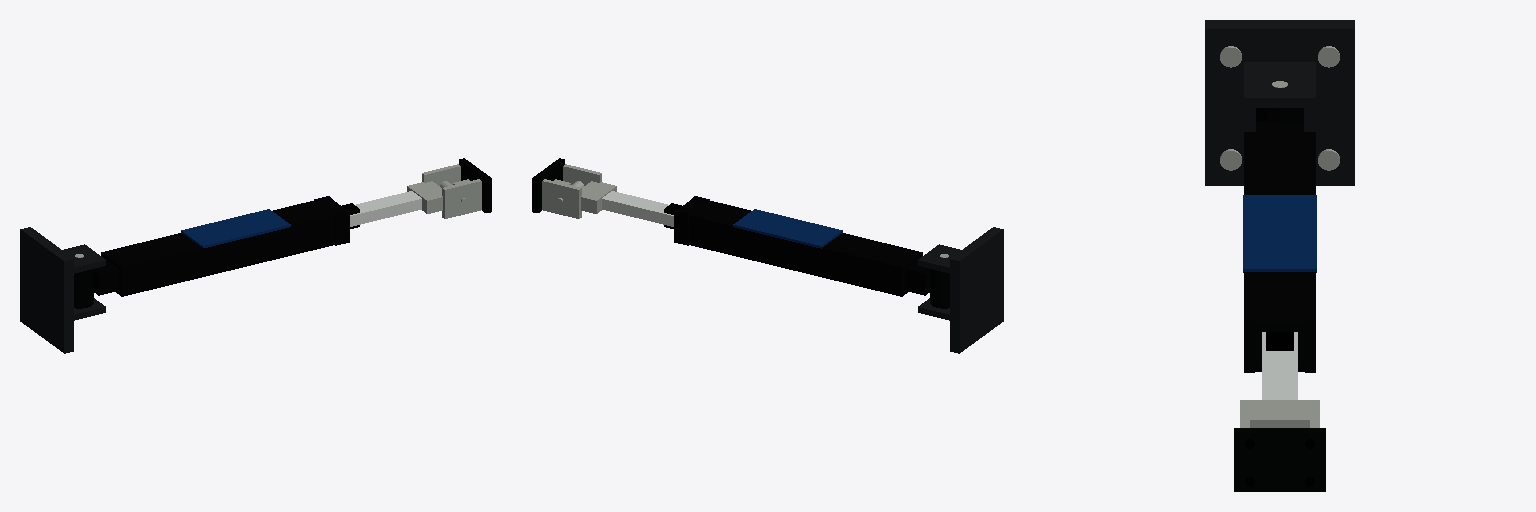
robot.urdf — side_hinged_inspection_boom:
<robot name="side_hinged_inspection_boom">
  <material name="satin_black_powdercoat">
    <color rgba="0.025 0.028 0.03 1" />
    </material>
  <material name="dark_graphite_casting">
    <color rgba="0.1 0.11 0.12 1" />
    </material>
  <material name="brushed_steel">
    <color rgba="0.62 0.64 0.61 1" />
    </material>
  <material name="hard_chrome_slide">
    <color rgba="0.78 0.8 0.78 1" />
    </material>
  <material name="black_rubber_pads">
    <color rgba="0.006 0.006 0.005 1" />
    </material>
  <material name="muted_blue_id_strip">
    <color rgba="0.05 0.18 0.36 1" />
    </material>
  <link name="mount">
    <visual name="wall_plate">
      <origin xyz="-0.08 0 0" rpy="0 0 0" />
      <geometry>
        <box size="0.025 0.19 0.22" />
        </geometry>
      <material name="dark_graphite_casting">
        <color rgba="0.1 0.11 0.12 1" />
        </material>
      </visual>
    <visual name="upper_ear">
      <origin xyz="-0.015 0 0.056" rpy="0 0 0" />
      <geometry>
        <box size="0.11 0.092 0.014" />
        </geometry>
      <material name="dark_graphite_casting">
        <color rgba="0.1 0.11 0.12 1" />
        </material>
      </visual>
    <visual name="lower_ear">
      <origin xyz="-0.015 0 -0.056" rpy="0 0 0" />
      <geometry>
        <box size="0.11 0.092 0.014" />
        </geometry>
      <material name="dark_graphite_casting">
        <color rgba="0.1 0.11 0.12 1" />
        </material>
      </visual>
    <visual name="ear_web">
      <origin xyz="-0.07 0 0" rpy="0 0 0" />
      <geometry>
        <box size="0.035 0.06 0.098" />
        </geometry>
      <material name="dark_graphite_casting">
        <color rgba="0.1 0.11 0.12 1" />
        </material>
      </visual>
    <visual name="pivot_pin">
      <geometry>
        <cylinder radius="0.01" length="0.128" />
        </geometry>
      <material name="brushed_steel">
        <color rgba="0.62 0.64 0.61 1" />
        </material>
      </visual>
    <visual name="bolt_head_0">
      <origin xyz="-0.066 -0.062 -0.072" rpy="0 1.5708 0" />
      <geometry>
        <cylinder radius="0.014" length="0.006" />
        </geometry>
      <material name="brushed_steel">
        <color rgba="0.62 0.64 0.61 1" />
        </material>
      </visual>
    <visual name="bolt_head_1">
      <origin xyz="-0.066 0.062 -0.072" rpy="0 1.5708 0" />
      <geometry>
        <cylinder radius="0.014" length="0.006" />
        </geometry>
      <material name="brushed_steel">
        <color rgba="0.62 0.64 0.61 1" />
        </material>
      </visual>
    <visual name="bolt_head_2">
      <origin xyz="-0.066 -0.062 0.072" rpy="0 1.5708 0" />
      <geometry>
        <cylinder radius="0.014" length="0.006" />
        </geometry>
      <material name="brushed_steel">
        <color rgba="0.62 0.64 0.61 1" />
        </material>
      </visual>
    <visual name="bolt_head_3">
      <origin xyz="-0.066 0.062 0.072" rpy="0 1.5708 0" />
      <geometry>
        <cylinder radius="0.014" length="0.006" />
        </geometry>
      <material name="brushed_steel">
        <color rgba="0.62 0.64 0.61 1" />
        </material>
      </visual>
    <collision name="wall_plate">
      <origin xyz="-0.08 0 0" rpy="0 0 0" />
      <geometry>
        <box size="0.025 0.19 0.22" />
        </geometry>
      </collision>
    <collision name="upper_ear">
      <origin xyz="-0.015 0 0.056" rpy="0 0 0" />
      <geometry>
        <box size="0.11 0.092 0.014" />
        </geometry>
      </collision>
    <collision name="lower_ear">
      <origin xyz="-0.015 0 -0.056" rpy="0 0 0" />
      <geometry>
        <box size="0.11 0.092 0.014" />
        </geometry>
      </collision>
    <collision name="ear_web">
      <origin xyz="-0.07 0 0" rpy="0 0 0" />
      <geometry>
        <box size="0.035 0.06 0.098" />
        </geometry>
      </collision>
    <collision name="pivot_pin">
      <geometry>
        <cylinder radius="0.01" length="0.128" />
        </geometry>
      </collision>
    <collision name="bolt_head_0">
      <origin xyz="-0.066 -0.062 -0.072" rpy="0 1.5708 0" />
      <geometry>
        <cylinder radius="0.014" length="0.006" />
        </geometry>
      </collision>
    <collision name="bolt_head_1">
      <origin xyz="-0.066 0.062 -0.072" rpy="0 1.5708 0" />
      <geometry>
        <cylinder radius="0.014" length="0.006" />
        </geometry>
      </collision>
    <collision name="bolt_head_2">
      <origin xyz="-0.066 -0.062 0.072" rpy="0 1.5708 0" />
      <geometry>
        <cylinder radius="0.014" length="0.006" />
        </geometry>
      </collision>
    <collision name="bolt_head_3">
      <origin xyz="-0.066 0.062 0.072" rpy="0 1.5708 0" />
      <geometry>
        <cylinder radius="0.014" length="0.006" />
        </geometry>
      </collision>
    </link>
  <link name="outer_boom">
    <visual name="root_hub">
      <geometry>
        <cylinder radius="0.031" length="0.096" />
        </geometry>
      <material name="satin_black_powdercoat">
        <color rgba="0.025 0.028 0.03 1" />
        </material>
      </visual>
    <visual name="hub_neck">
      <origin xyz="0.08 0 0" rpy="0 0 0" />
      <geometry>
        <box size="0.1 0.062 0.052" />
        </geometry>
      <material name="satin_black_powdercoat">
        <color rgba="0.025 0.028 0.03 1" />
        </material>
      </visual>
    <visual name="top_sleeve_wall">
      <origin xyz="0.36 0 0.028" rpy="0 0 0" />
      <geometry>
        <box size="0.56 0.09 0.014" />
        </geometry>
      <material name="satin_black_powdercoat">
        <color rgba="0.025 0.028 0.03 1" />
        </material>
      </visual>
    <visual name="bottom_sleeve_wall">
      <origin xyz="0.36 0 -0.028" rpy="0 0 0" />
      <geometry>
        <box size="0.56 0.09 0.014" />
        </geometry>
      <material name="satin_black_powdercoat">
        <color rgba="0.025 0.028 0.03 1" />
        </material>
      </visual>
    <visual name="side_sleeve_wall_0">
      <origin xyz="0.36 0.038 0" rpy="0 0 0" />
      <geometry>
        <box size="0.56 0.014 0.07" />
        </geometry>
      <material name="satin_black_powdercoat">
        <color rgba="0.025 0.028 0.03 1" />
        </material>
      </visual>
    <visual name="side_sleeve_wall_1">
      <origin xyz="0.36 -0.038 0" rpy="0 0 0" />
      <geometry>
        <box size="0.56 0.014 0.07" />
        </geometry>
      <material name="satin_black_powdercoat">
        <color rgba="0.025 0.028 0.03 1" />
        </material>
      </visual>
    <visual name="distal_collar_top">
      <origin xyz="0.63 0 0.028" rpy="0 0 0" />
      <geometry>
        <box size="0.036 0.092 0.014" />
        </geometry>
      <material name="satin_black_powdercoat">
        <color rgba="0.025 0.028 0.03 1" />
        </material>
      </visual>
    <visual name="distal_collar_bottom">
      <origin xyz="0.63 0 -0.028" rpy="0 0 0" />
      <geometry>
        <box size="0.036 0.092 0.014" />
        </geometry>
      <material name="satin_black_powdercoat">
        <color rgba="0.025 0.028 0.03 1" />
        </material>
      </visual>
    <visual name="distal_collar_side_0">
      <origin xyz="0.63 0.039 0" rpy="0 0 0" />
      <geometry>
        <box size="0.036 0.014 0.074" />
        </geometry>
      <material name="satin_black_powdercoat">
        <color rgba="0.025 0.028 0.03 1" />
        </material>
      </visual>
    <visual name="distal_collar_side_1">
      <origin xyz="0.63 -0.039 0" rpy="0 0 0" />
      <geometry>
        <box size="0.036 0.014 0.074" />
        </geometry>
      <material name="satin_black_powdercoat">
        <color rgba="0.025 0.028 0.03 1" />
        </material>
      </visual>
    <visual name="id_strip">
      <origin xyz="0.39 0 0.037" rpy="0 0 0" />
      <geometry>
        <box size="0.22 0.093 0.006" />
        </geometry>
      <material name="muted_blue_id_strip">
        <color rgba="0.05 0.18 0.36 1" />
        </material>
      </visual>
    <collision name="root_hub">
      <geometry>
        <cylinder radius="0.031" length="0.096" />
        </geometry>
      </collision>
    <collision name="hub_neck">
      <origin xyz="0.08 0 0" rpy="0 0 0" />
      <geometry>
        <box size="0.1 0.062 0.052" />
        </geometry>
      </collision>
    <collision name="top_sleeve_wall">
      <origin xyz="0.36 0 0.028" rpy="0 0 0" />
      <geometry>
        <box size="0.56 0.09 0.014" />
        </geometry>
      </collision>
    <collision name="bottom_sleeve_wall">
      <origin xyz="0.36 0 -0.028" rpy="0 0 0" />
      <geometry>
        <box size="0.56 0.09 0.014" />
        </geometry>
      </collision>
    <collision name="side_sleeve_wall_0">
      <origin xyz="0.36 0.038 0" rpy="0 0 0" />
      <geometry>
        <box size="0.56 0.014 0.07" />
        </geometry>
      </collision>
    <collision name="side_sleeve_wall_1">
      <origin xyz="0.36 -0.038 0" rpy="0 0 0" />
      <geometry>
        <box size="0.56 0.014 0.07" />
        </geometry>
      </collision>
    <collision name="distal_collar_top">
      <origin xyz="0.63 0 0.028" rpy="0 0 0" />
      <geometry>
        <box size="0.036 0.092 0.014" />
        </geometry>
      </collision>
    <collision name="distal_collar_bottom">
      <origin xyz="0.63 0 -0.028" rpy="0 0 0" />
      <geometry>
        <box size="0.036 0.092 0.014" />
        </geometry>
      </collision>
    <collision name="distal_collar_side_0">
      <origin xyz="0.63 0.039 0" rpy="0 0 0" />
      <geometry>
        <box size="0.036 0.014 0.074" />
        </geometry>
      </collision>
    <collision name="distal_collar_side_1">
      <origin xyz="0.63 -0.039 0" rpy="0 0 0" />
      <geometry>
        <box size="0.036 0.014 0.074" />
        </geometry>
      </collision>
    <collision name="id_strip">
      <origin xyz="0.39 0 0.037" rpy="0 0 0" />
      <geometry>
        <box size="0.22 0.093 0.006" />
        </geometry>
      </collision>
    </link>
  <link name="center_stage">
    <visual name="inner_member">
      <origin xyz="-0.07 0 0" rpy="0 0 0" />
      <geometry>
        <box size="0.7 0.046 0.026" />
        </geometry>
      <material name="hard_chrome_slide">
        <color rgba="0.78 0.8 0.78 1" />
        </material>
      </visual>
    <visual name="upper_glide">
      <origin xyz="-0.13 0 0.017" rpy="0 0 0" />
      <geometry>
        <box size="0.42 0.036 0.008" />
        </geometry>
      <material name="black_rubber_pads">
        <color rgba="0.006 0.006 0.005 1" />
        </material>
      </visual>
    <visual name="lower_glide">
      <origin xyz="-0.13 0 -0.017" rpy="0 0 0" />
      <geometry>
        <box size="0.42 0.036 0.008" />
        </geometry>
      <material name="black_rubber_pads">
        <color rgba="0.006 0.006 0.005 1" />
        </material>
      </visual>
    <visual name="fork_bridge">
      <origin xyz="0.262 0 0" rpy="0 0 0" />
      <geometry>
        <box size="0.06 0.088 0.032" />
        </geometry>
      <material name="brushed_steel">
        <color rgba="0.62 0.64 0.61 1" />
        </material>
      </visual>
    <visual name="fork_cheek_0">
      <origin xyz="0.318 0.044 0" rpy="0 0 0" />
      <geometry>
        <box size="0.092 0.012 0.07" />
        </geometry>
      <material name="brushed_steel">
        <color rgba="0.62 0.64 0.61 1" />
        </material>
      </visual>
    <visual name="fork_cheek_1">
      <origin xyz="0.318 -0.044 0" rpy="0 0 0" />
      <geometry>
        <box size="0.092 0.012 0.07" />
        </geometry>
      <material name="brushed_steel">
        <color rgba="0.62 0.64 0.61 1" />
        </material>
      </visual>
    <visual name="head_pin">
      <origin xyz="0.318 0 0" rpy="1.5708 0 0" />
      <geometry>
        <cylinder radius="0.006" length="0.112" />
        </geometry>
      <material name="brushed_steel">
        <color rgba="0.62 0.64 0.61 1" />
        </material>
      </visual>
    <collision name="inner_member">
      <origin xyz="-0.07 0 0" rpy="0 0 0" />
      <geometry>
        <box size="0.7 0.046 0.026" />
        </geometry>
      </collision>
    <collision name="upper_glide">
      <origin xyz="-0.13 0 0.017" rpy="0 0 0" />
      <geometry>
        <box size="0.42 0.036 0.008" />
        </geometry>
      </collision>
    <collision name="lower_glide">
      <origin xyz="-0.13 0 -0.017" rpy="0 0 0" />
      <geometry>
        <box size="0.42 0.036 0.008" />
        </geometry>
      </collision>
    <collision name="fork_bridge">
      <origin xyz="0.262 0 0" rpy="0 0 0" />
      <geometry>
        <box size="0.06 0.088 0.032" />
        </geometry>
      </collision>
    <collision name="fork_cheek_0">
      <origin xyz="0.318 0.044 0" rpy="0 0 0" />
      <geometry>
        <box size="0.092 0.012 0.07" />
        </geometry>
      </collision>
    <collision name="fork_cheek_1">
      <origin xyz="0.318 -0.044 0" rpy="0 0 0" />
      <geometry>
        <box size="0.092 0.012 0.07" />
        </geometry>
      </collision>
    <collision name="head_pin">
      <origin xyz="0.318 0 0" rpy="1.5708 0 0" />
      <geometry>
        <cylinder radius="0.006" length="0.112" />
        </geometry>
      </collision>
    </link>
  <link name="head_plate">
    <visual name="pin_boss">
      <origin xyz="0 0 0" rpy="1.5708 0 0" />
      <geometry>
        <cylinder radius="0.013" length="0.062" />
        </geometry>
      <material name="brushed_steel">
        <color rgba="0.62 0.64 0.61 1" />
        </material>
      </visual>
    <visual name="boss_neck">
      <origin xyz="0.034 0 0" rpy="0 0 0" />
      <geometry>
        <box size="0.044 0.034 0.022" />
        </geometry>
      <material name="brushed_steel">
        <color rgba="0.62 0.64 0.61 1" />
        </material>
      </visual>
    <visual name="tilt_plate">
      <origin xyz="0.059 0 0" rpy="0 0 0" />
      <geometry>
        <box size="0.014 0.116 0.082" />
        </geometry>
      <material name="satin_black_powdercoat">
        <color rgba="0.025 0.028 0.03 1" />
        </material>
      </visual>
    <visual name="pad_0">
      <origin xyz="0.068 -0.038 -0.026" rpy="0 1.5708 0" />
      <geometry>
        <cylinder radius="0.006" length="0.004" />
        </geometry>
      <material name="black_rubber_pads">
        <color rgba="0.006 0.006 0.005 1" />
        </material>
      </visual>
    <visual name="pad_1">
      <origin xyz="0.068 0.038 -0.026" rpy="0 1.5708 0" />
      <geometry>
        <cylinder radius="0.006" length="0.004" />
        </geometry>
      <material name="black_rubber_pads">
        <color rgba="0.006 0.006 0.005 1" />
        </material>
      </visual>
    <visual name="pad_2">
      <origin xyz="0.068 -0.038 0.026" rpy="0 1.5708 0" />
      <geometry>
        <cylinder radius="0.006" length="0.004" />
        </geometry>
      <material name="black_rubber_pads">
        <color rgba="0.006 0.006 0.005 1" />
        </material>
      </visual>
    <visual name="pad_3">
      <origin xyz="0.068 0.038 0.026" rpy="0 1.5708 0" />
      <geometry>
        <cylinder radius="0.006" length="0.004" />
        </geometry>
      <material name="black_rubber_pads">
        <color rgba="0.006 0.006 0.005 1" />
        </material>
      </visual>
    <collision name="pin_boss">
      <origin xyz="0 0 0" rpy="1.5708 0 0" />
      <geometry>
        <cylinder radius="0.013" length="0.062" />
        </geometry>
      </collision>
    <collision name="boss_neck">
      <origin xyz="0.034 0 0" rpy="0 0 0" />
      <geometry>
        <box size="0.044 0.034 0.022" />
        </geometry>
      </collision>
    <collision name="tilt_plate">
      <origin xyz="0.059 0 0" rpy="0 0 0" />
      <geometry>
        <box size="0.014 0.116 0.082" />
        </geometry>
      </collision>
    <collision name="pad_0">
      <origin xyz="0.068 -0.038 -0.026" rpy="0 1.5708 0" />
      <geometry>
        <cylinder radius="0.006" length="0.004" />
        </geometry>
      </collision>
    <collision name="pad_1">
      <origin xyz="0.068 0.038 -0.026" rpy="0 1.5708 0" />
      <geometry>
        <cylinder radius="0.006" length="0.004" />
        </geometry>
      </collision>
    <collision name="pad_2">
      <origin xyz="0.068 -0.038 0.026" rpy="0 1.5708 0" />
      <geometry>
        <cylinder radius="0.006" length="0.004" />
        </geometry>
      </collision>
    <collision name="pad_3">
      <origin xyz="0.068 0.038 0.026" rpy="0 1.5708 0" />
      <geometry>
        <cylinder radius="0.006" length="0.004" />
        </geometry>
      </collision>
    </link>
  <joint name="root_pivot" type="revolute">
    <parent link="mount" />
    <child link="outer_boom" />
    <axis xyz="0 0 1" />
    <limit effort="35" velocity="1.2" lower="-1.25" upper="1.25" />
    </joint>
  <joint name="center_slide" type="prismatic">
    <origin xyz="0.61 0 0" rpy="0 0 0" />
    <parent link="outer_boom" />
    <child link="center_stage" />
    <axis xyz="1 0 0" />
    <limit effort="80" velocity="0.28" lower="0" upper="0.28" />
    </joint>
  <joint name="head_tilt" type="revolute">
    <origin xyz="0.318 0 0" rpy="0 0 0" />
    <parent link="center_stage" />
    <child link="head_plate" />
    <axis xyz="0 1 0" />
    <limit effort="8" velocity="1.5" lower="-0.75" upper="0.85" />
    </joint>
  </robot>

--- What the picture shows (computed from the rendered views, not written in the file) ---
3 views of the same robot in one strip: view 1: azimuth 30°, elevation 25°; view 2: azimuth 150°, elevation 25°; view 3: azimuth 270°, elevation 25° (orthographic).
Robot: side_hinged_inspection_boom — 4 links, 3 joints (2 revolute, 1 prismatic); root link mount; default pose: every joint at zero.
Links seen in each view (by area): view 1: outer_boom, mount, center_stage, head_plate; view 2: outer_boom, mount, center_stage, head_plate; view 3: mount, outer_boom, head_plate, center_stage.
Boxes of the visible links, box(x1,y1,x2,y2) form: outer_boom: box(74, 196, 349, 308); mount: box(20, 227, 105, 353); center_stage: box(342, 164, 481, 228); head_plate: box(440, 158, 491, 212); outer_boom: box(674, 196, 949, 308); mount: box(918, 227, 1003, 353); center_stage: box(542, 164, 681, 228); head_plate: box(532, 158, 583, 212); mount: box(1205, 20, 1354, 185); outer_boom: box(1243, 108, 1316, 372); head_plate: box(1234, 428, 1325, 491); center_stage: box(1240, 332, 1319, 427).
Bounding box of the posed robot: 1.09 × 0.19 × 0.22 m (x, y, z).
Geometry: primitives only (box / cylinder / sphere), no mesh files.
